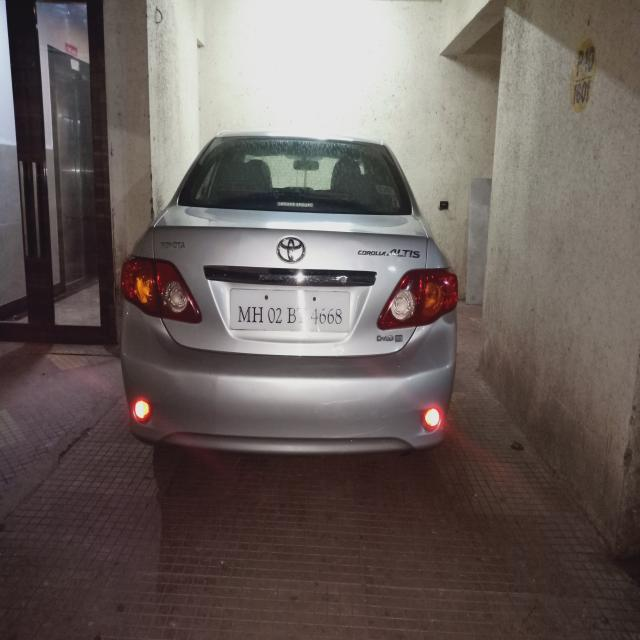Number-Plate: (236, 286, 351, 333)
